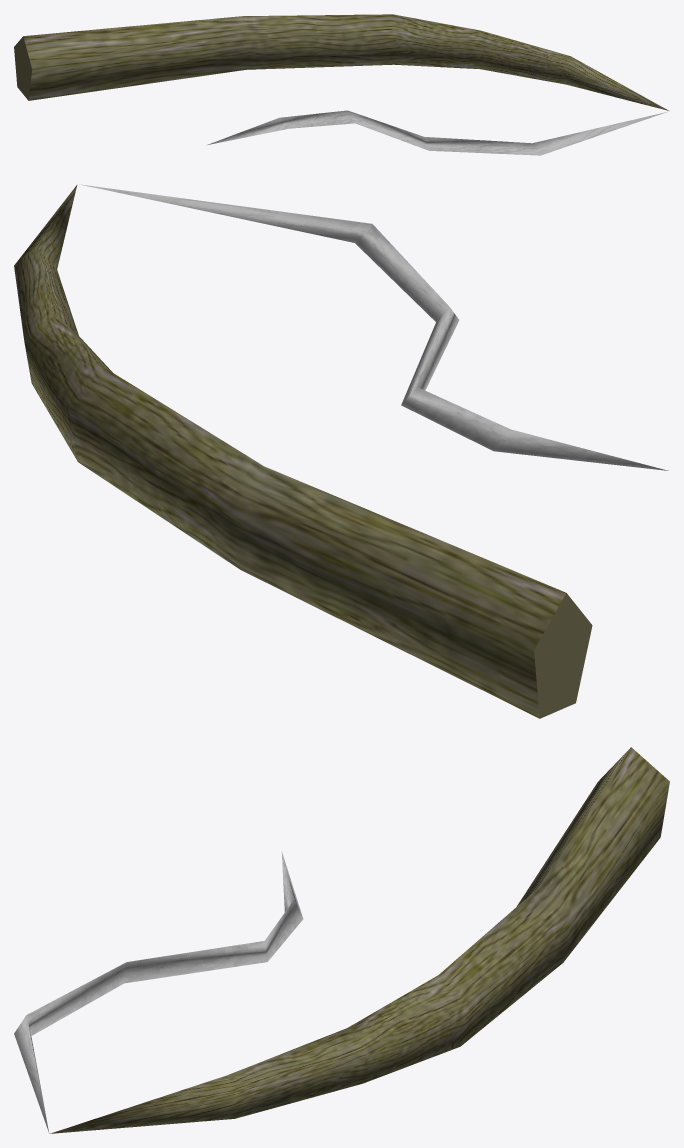
Rendered from fishingrod.obj.
The picture shows the model from 3 angles, top to bottom: view 1: azimuth 30°, elevation 25°; view 2: azimuth 150°, elevation 25°; view 3: azimuth 270°, elevation 25°; orthographic projection. The views are drawn at different scales.
Visible parts, largest first — view 1: Cylinder02, Cylinder03; view 2: Cylinder02, Cylinder03; view 3: Cylinder02, Cylinder03.
Boxes of the visible parts, left/top/right/bottom form: Cylinder02: left=14, top=14, right=668, bottom=110; Cylinder03: left=206, top=110, right=666, bottom=155; Cylinder02: left=14, top=185, right=592, bottom=718; Cylinder03: left=79, top=184, right=668, bottom=470; Cylinder02: left=50, top=747, right=669, bottom=1133; Cylinder03: left=14, top=851, right=303, bottom=1133.
Bounding box in the file's own units: 19.24 × 2.48 × 16.29.
